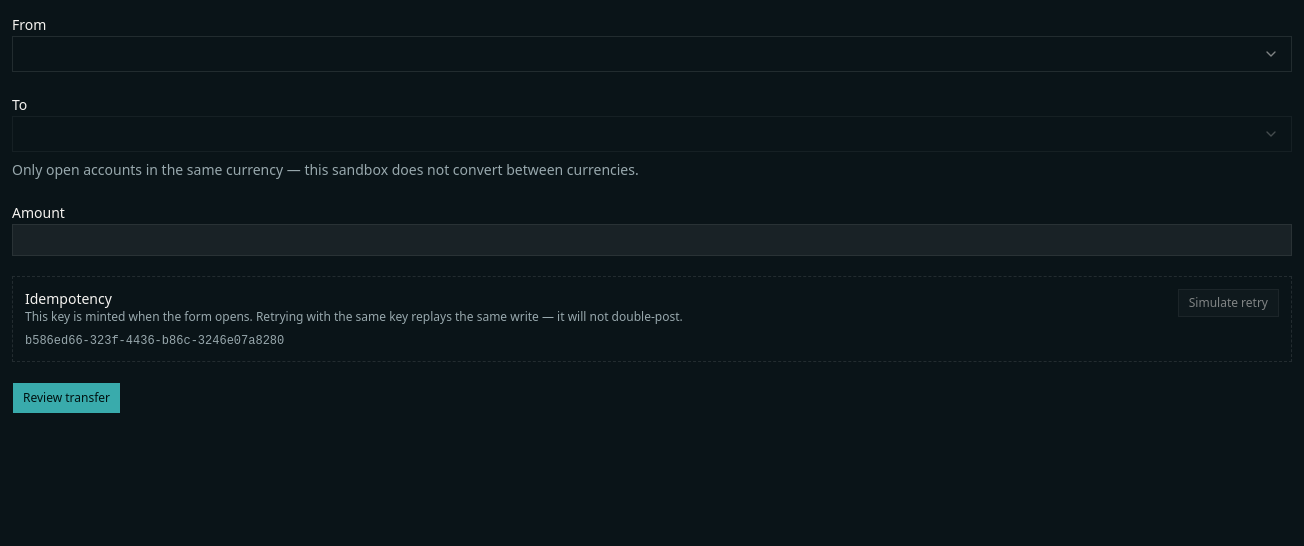
Test: confirmation step › names the direction in plain language before anything is posted
The image size is (1304, 546).
Click the dropdown named "From" below "From". click: [1271, 54]
box: [12,36,1292,72]
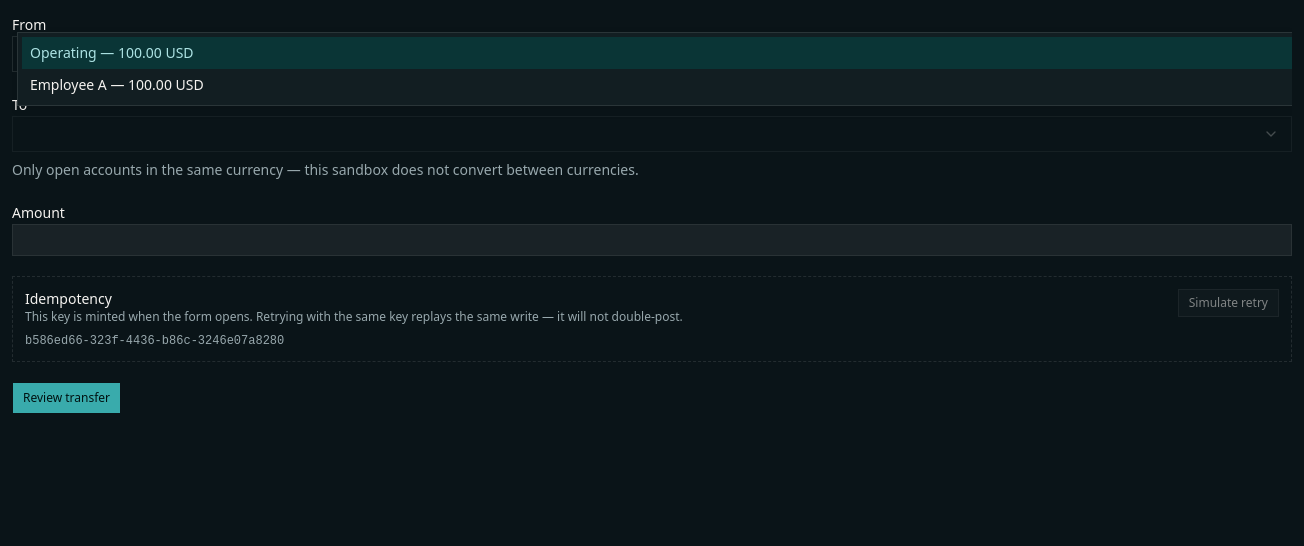
Click the option "Operating — 100.00 USD". click: [63, 52]
box: [22,37,1292,69]
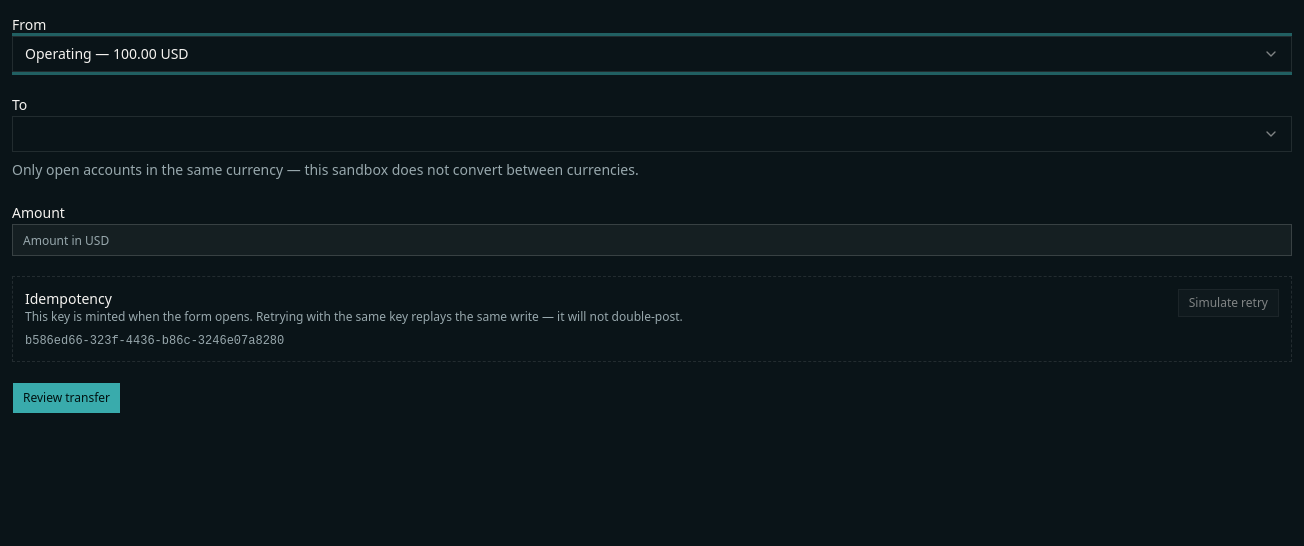
Click the dropdown named "To". click: [1271, 134]
box: [12,116,1292,152]
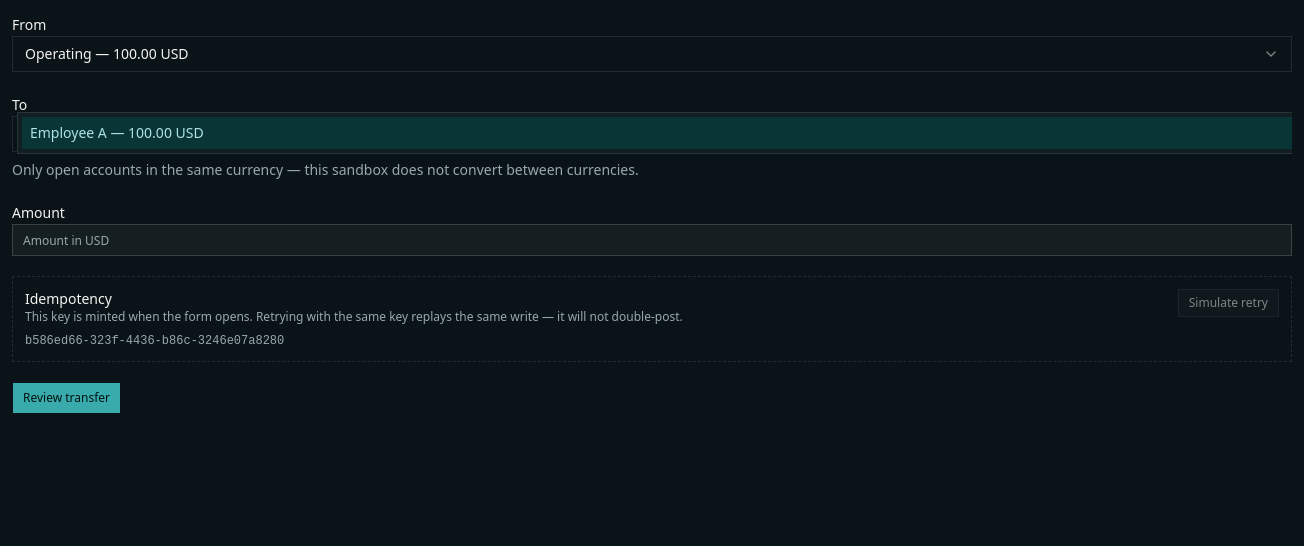
Click the option "Employee A — 100.00 USD". click: [68, 132]
box: [22,117,1292,149]
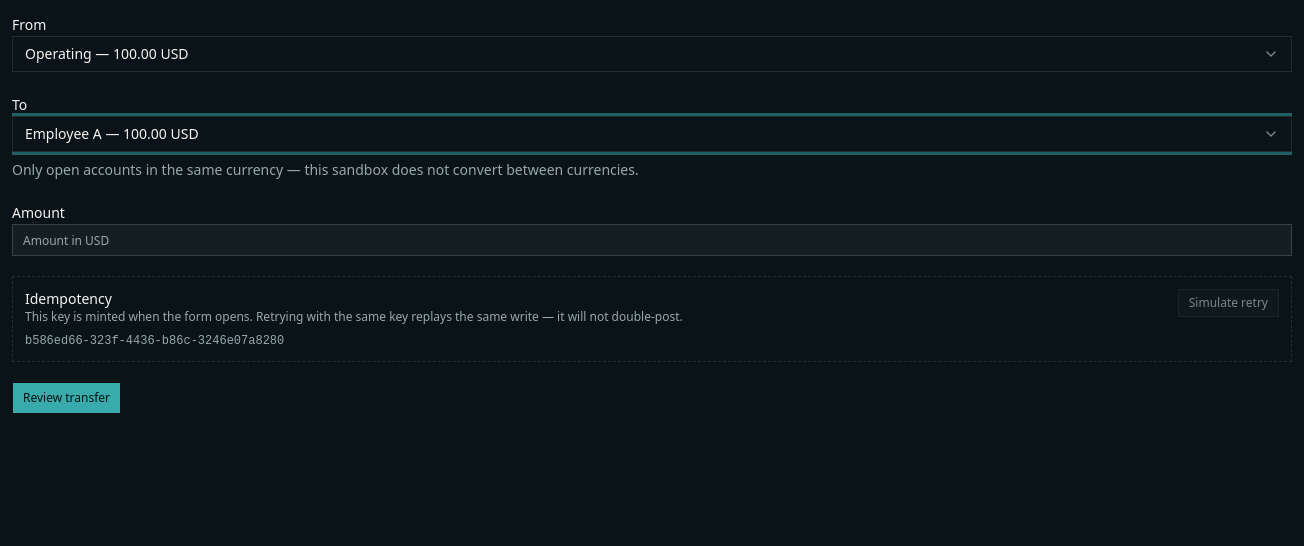
Type "12.50" into the field labelled "Amount". click: [652, 240]
box: [12,224,1292,256]
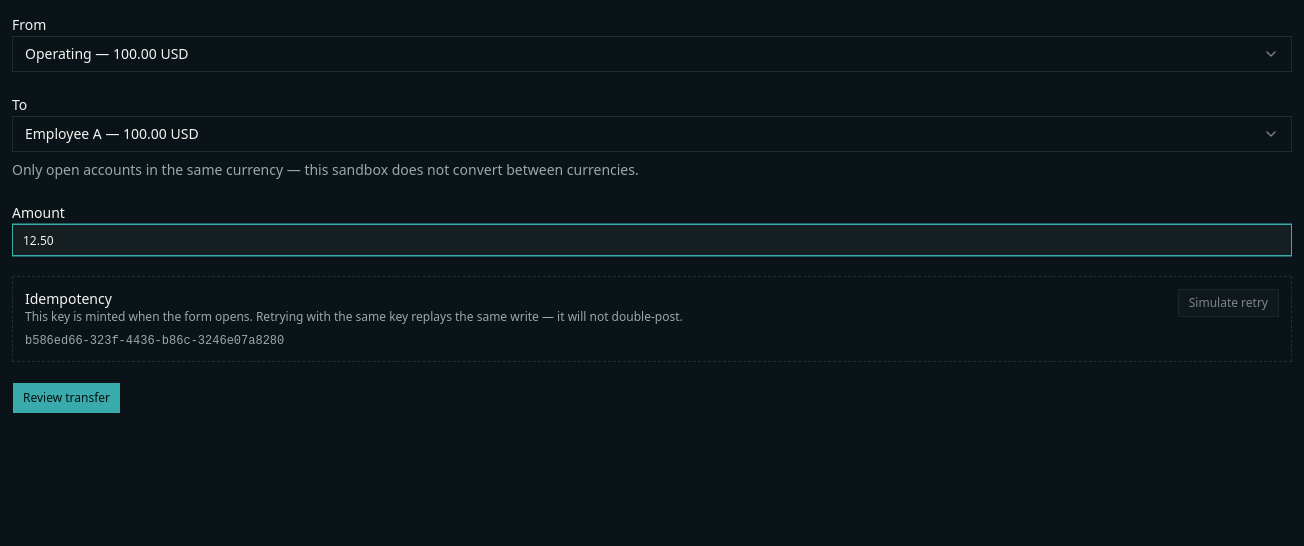
Click the button "Review transfer". click: [67, 398]
box: [12,382,121,414]
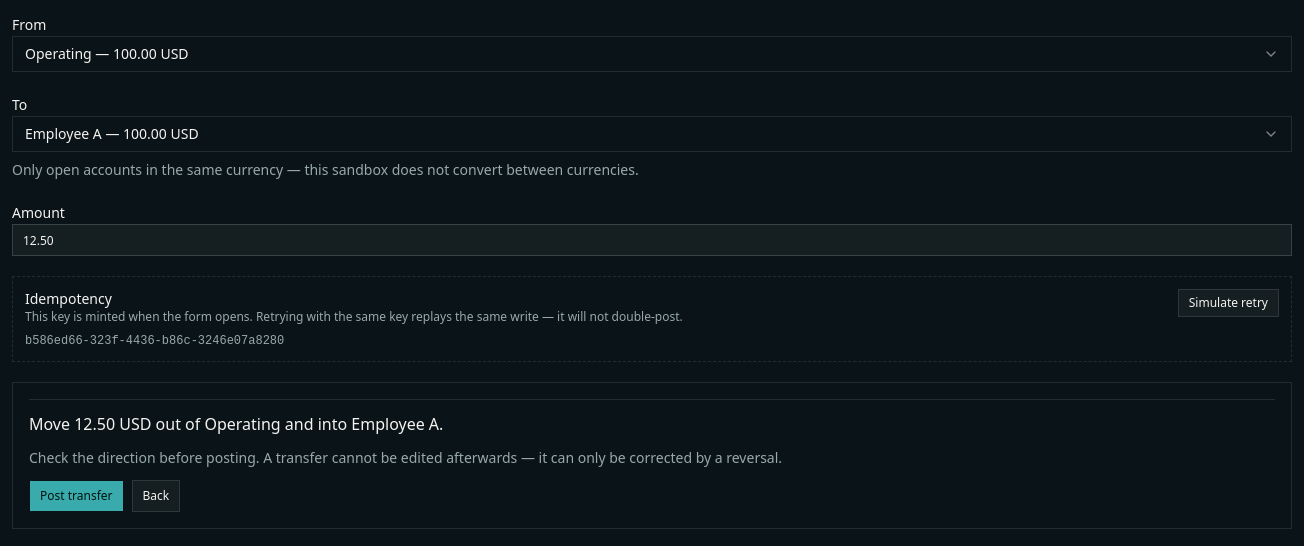
Expected: the text "Move 12.50 USD out of Operating and into Employee A." is shown, [29,413,443,435]
